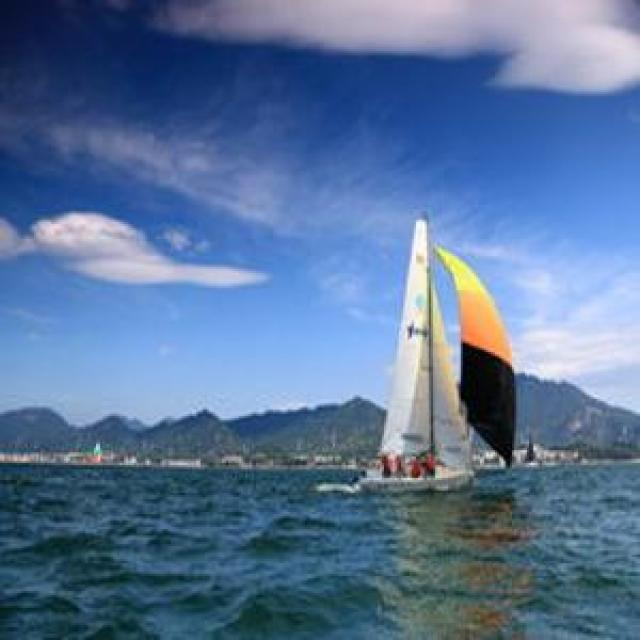sailboat: (358, 198, 519, 496)
